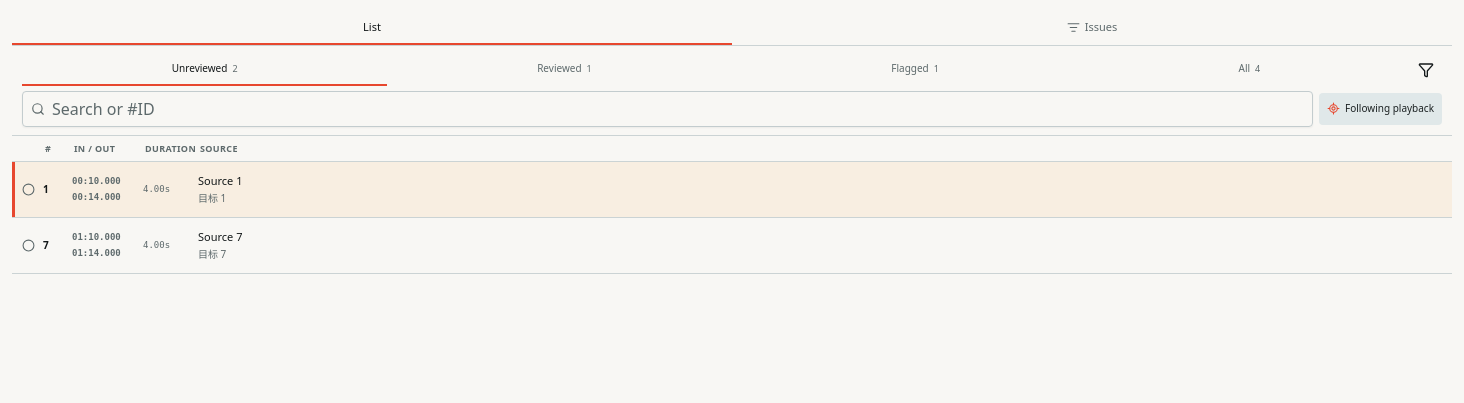
Test case: cue list › filters by status, quality flag, and #id search
Expected: the button "Unreviewed 2" is shown, 22,54 -> 387,86
Expected: the button "Flagged 1" is shown, 742,54 -> 1089,86
Click the button "Reviewed 1" at (564, 70), box 387,54 -> 742,86
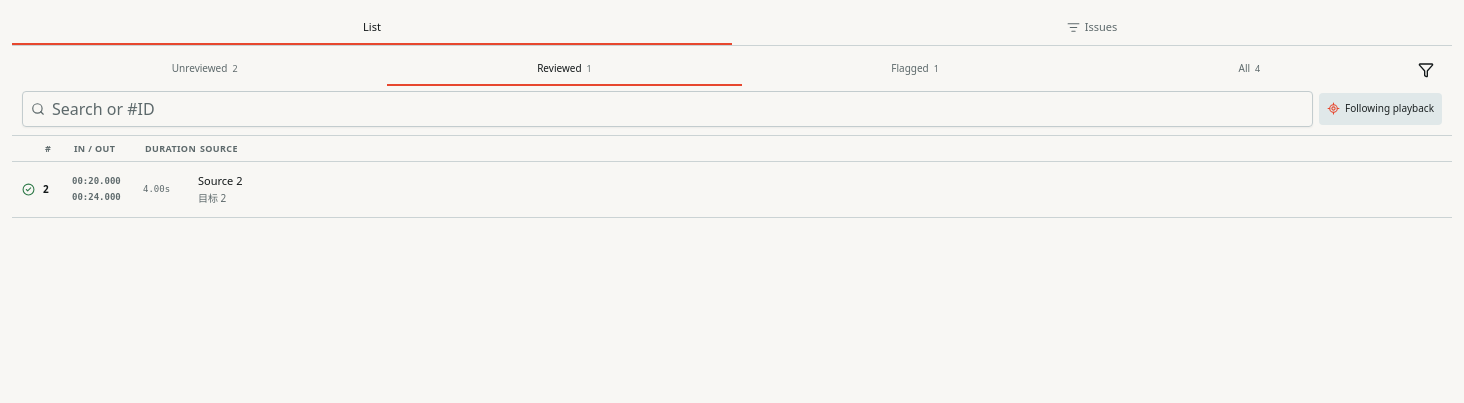
Now the number of elements with class "cue-row" is 1, box 12,162 -> 1452,218
Now the text "Source 2" is shown, box 198,173 -> 242,188
Click the button "All 4" at (1249, 70), box 1089,54 -> 1410,86
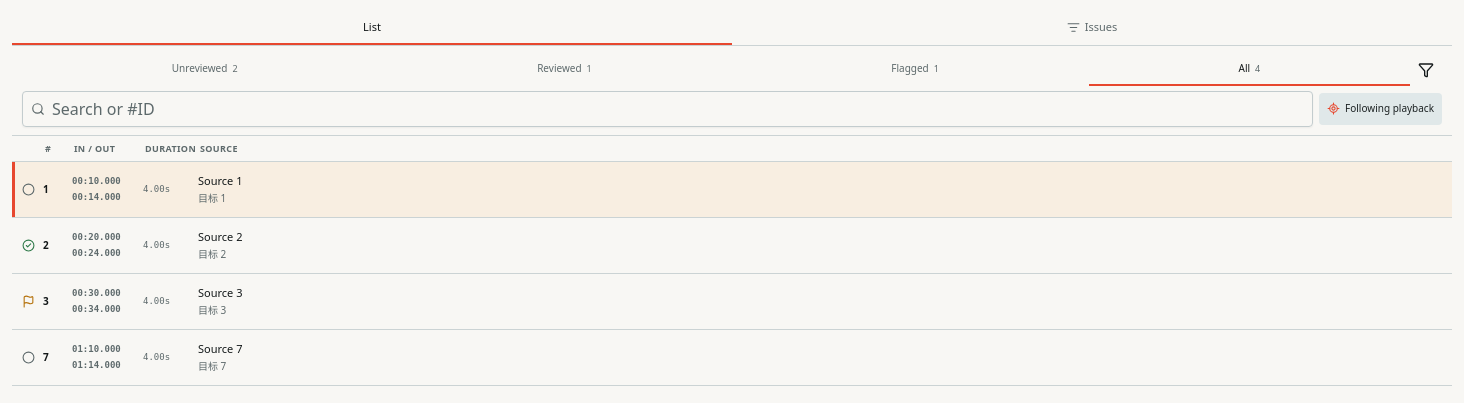
Type "#7" into the search field labelled "Search or #ID" at (668, 108), box 22,90 -> 1313,126
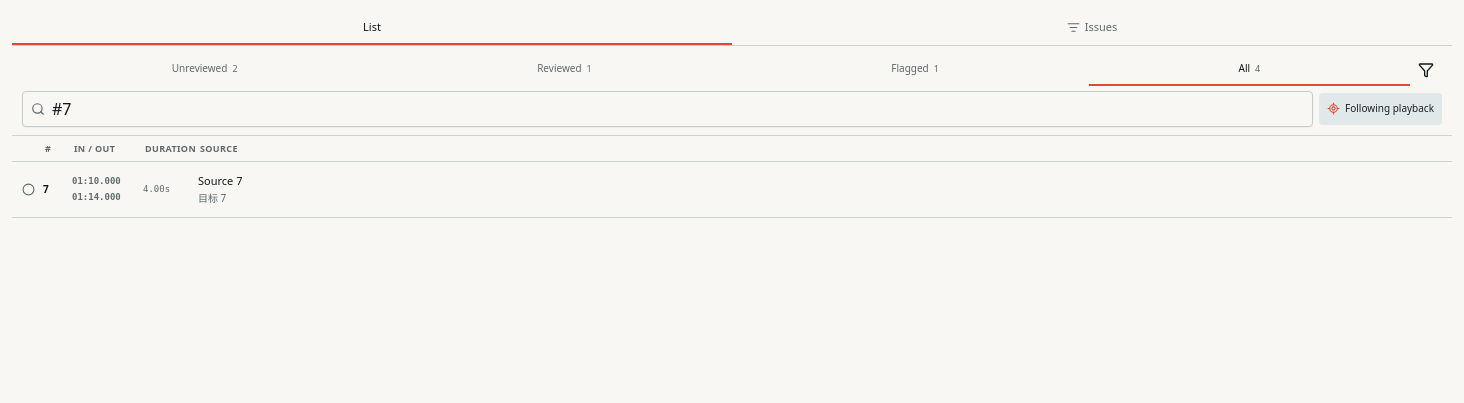
Now the text "Source 7" is shown, box 198,173 -> 242,188
Now the number of elements with class "cue-row" is 1, box 12,162 -> 1452,218
